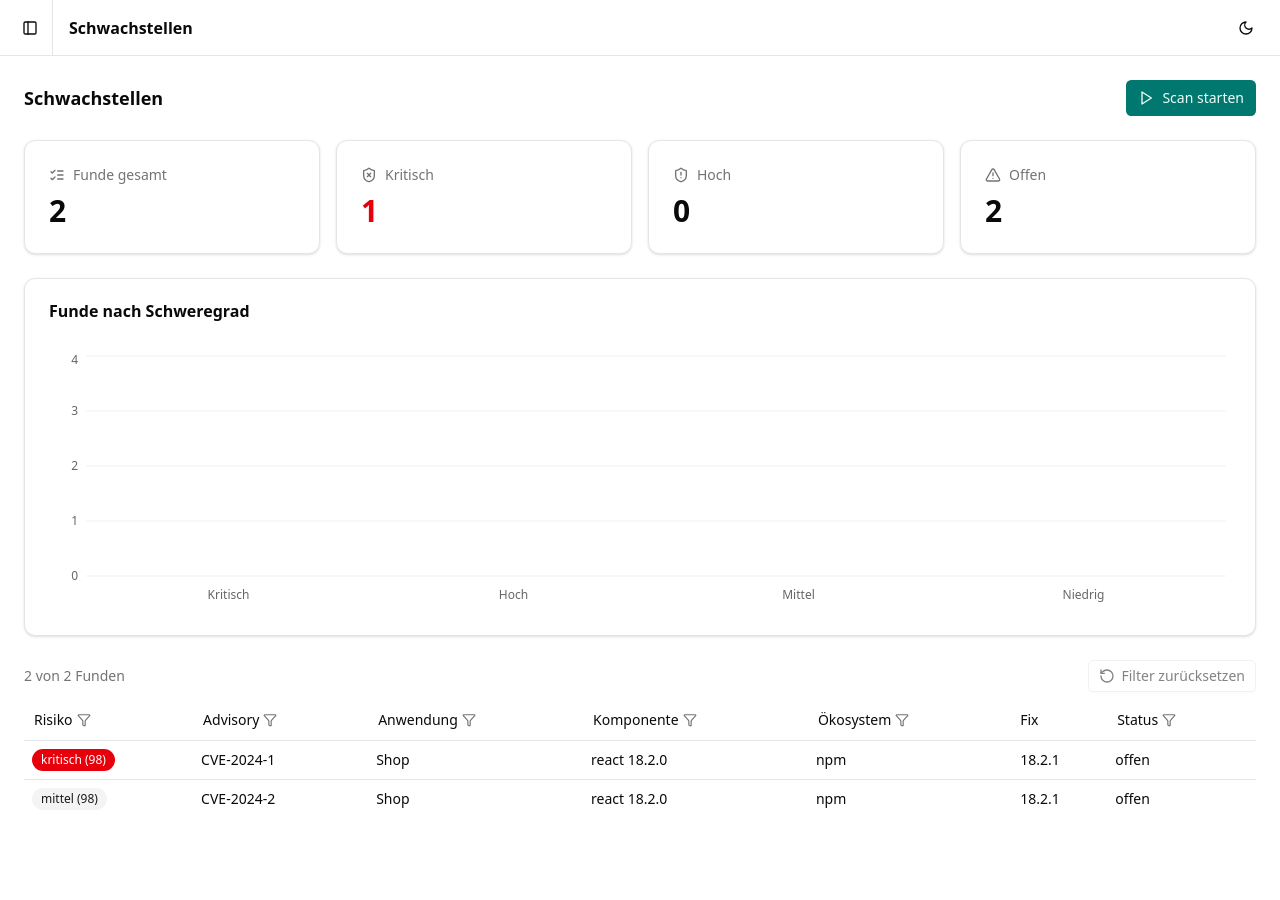
Test: App › öffnet den CVE-Drawer per Klick auf eine Zeile
This screenshot has width=1280, height=900.
Click the row with test id "cves-item-CVE-2024-1-1" at x=640, y=760, box x1=24 y1=740 x2=1256 y2=779
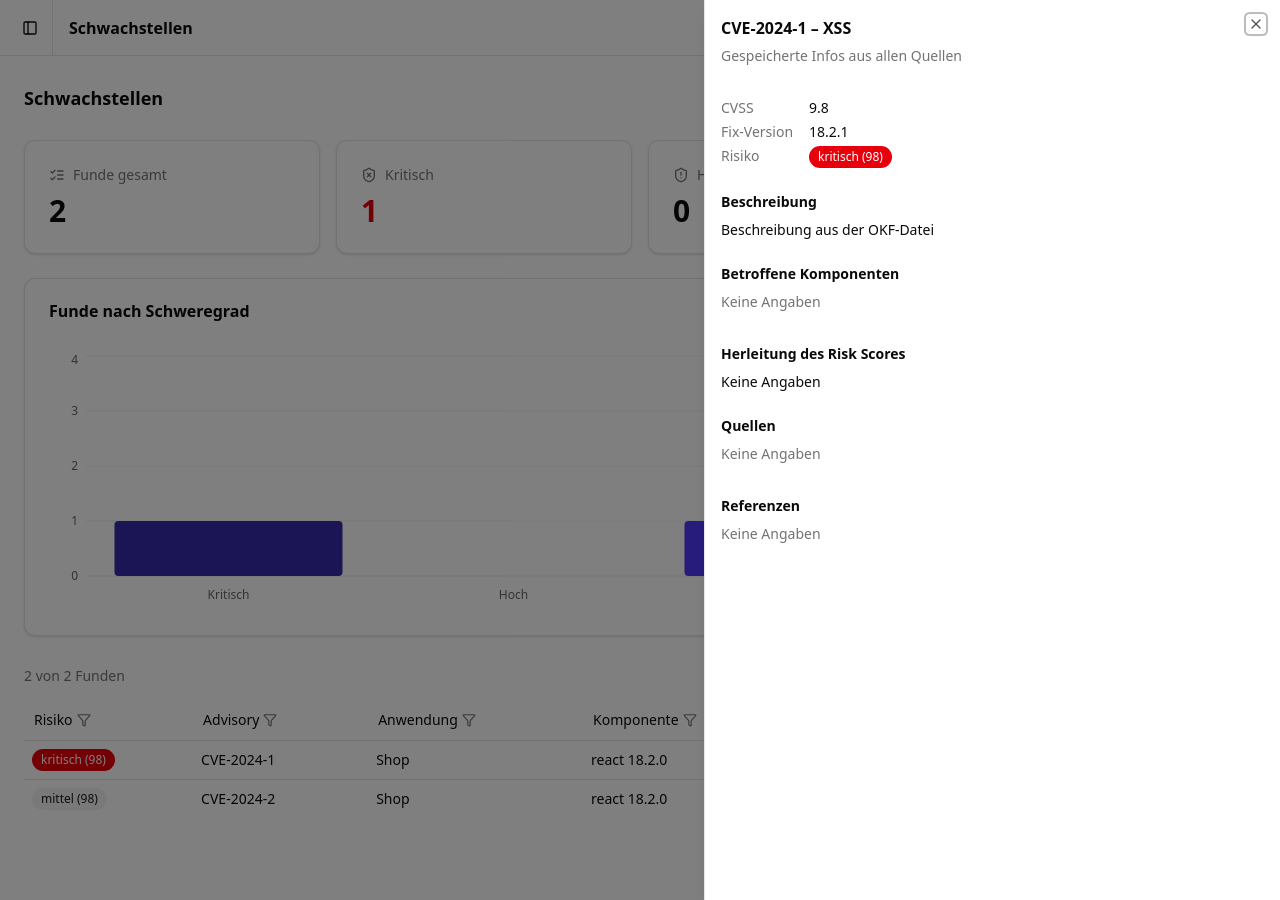
Expected: the text with test id "cves-text-detail-description" reads "Beschreibung aus der OKF-Datei", x1=721 y1=220 x2=934 y2=239
